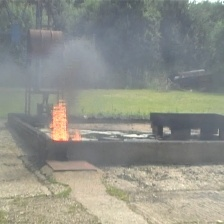fire: (48, 98, 82, 141)
